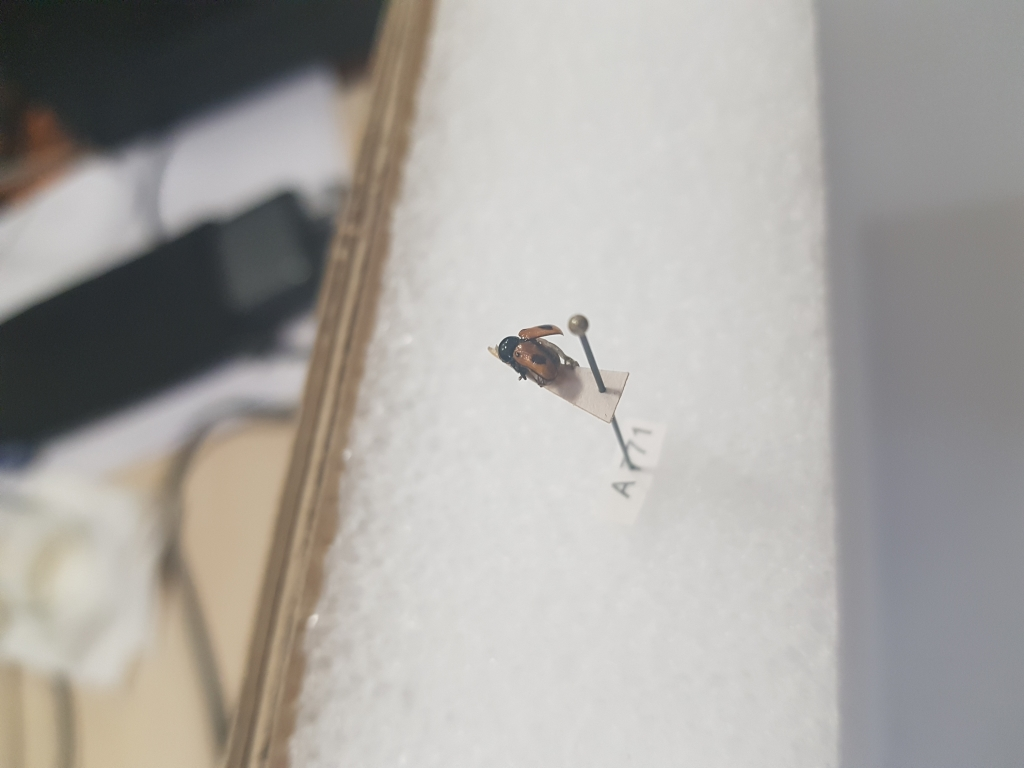Cryptocephalus_bipunctatus: (484, 315, 581, 401)
